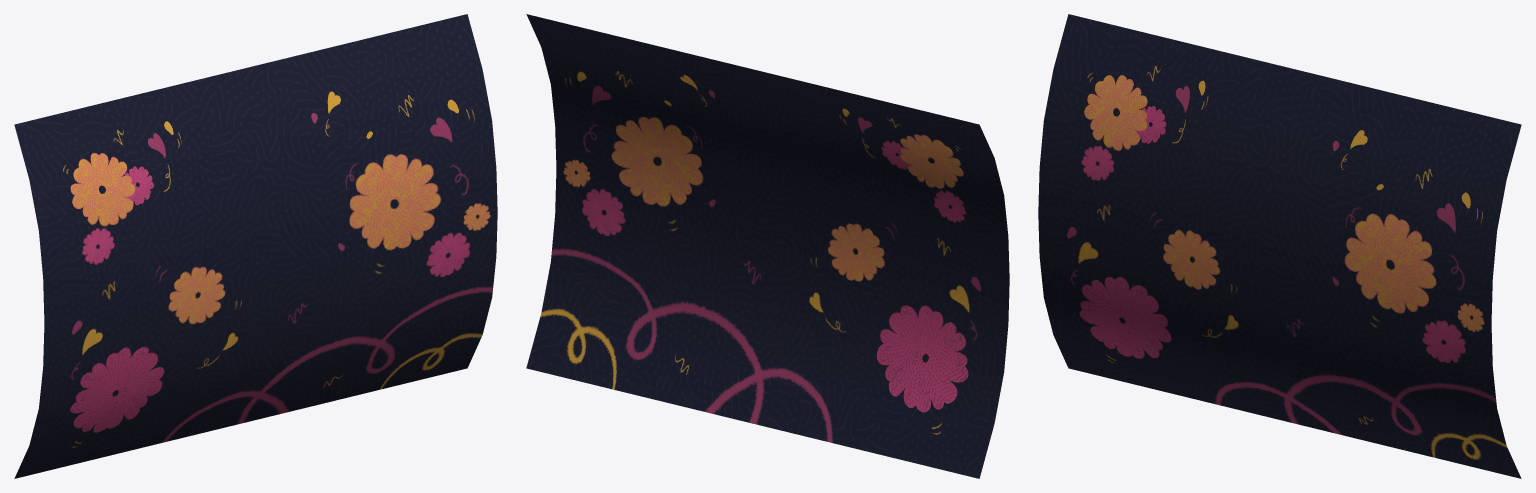
File: FrontSail.fbx
The picture shows the model from 3 angles, left to right: view 1: azimuth 30°, elevation 25°; view 2: azimuth 150°, elevation 25°; view 3: azimuth 330°, elevation 25°; orthographic projection.
Parts seen in each view (by area): view 1: FrontSail; view 2: FrontSail; view 3: FrontSail.
Part boxes in pixels (x1,y1,x2,y2): FrontSail: [14, 14, 497, 478]; FrontSail: [526, 14, 1009, 478]; FrontSail: [1038, 14, 1521, 478].
Size of the model in its own units: 15.67 by 11.71 by 1.8.
1 material, 1 textured.
